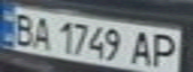1: (51, 18, 75, 54)
4: (84, 24, 106, 60)
7: (69, 20, 90, 56)
9: (103, 25, 127, 63)
A: (127, 28, 157, 66), (30, 15, 54, 51)
B: (6, 10, 39, 47)
P: (148, 30, 184, 70)
